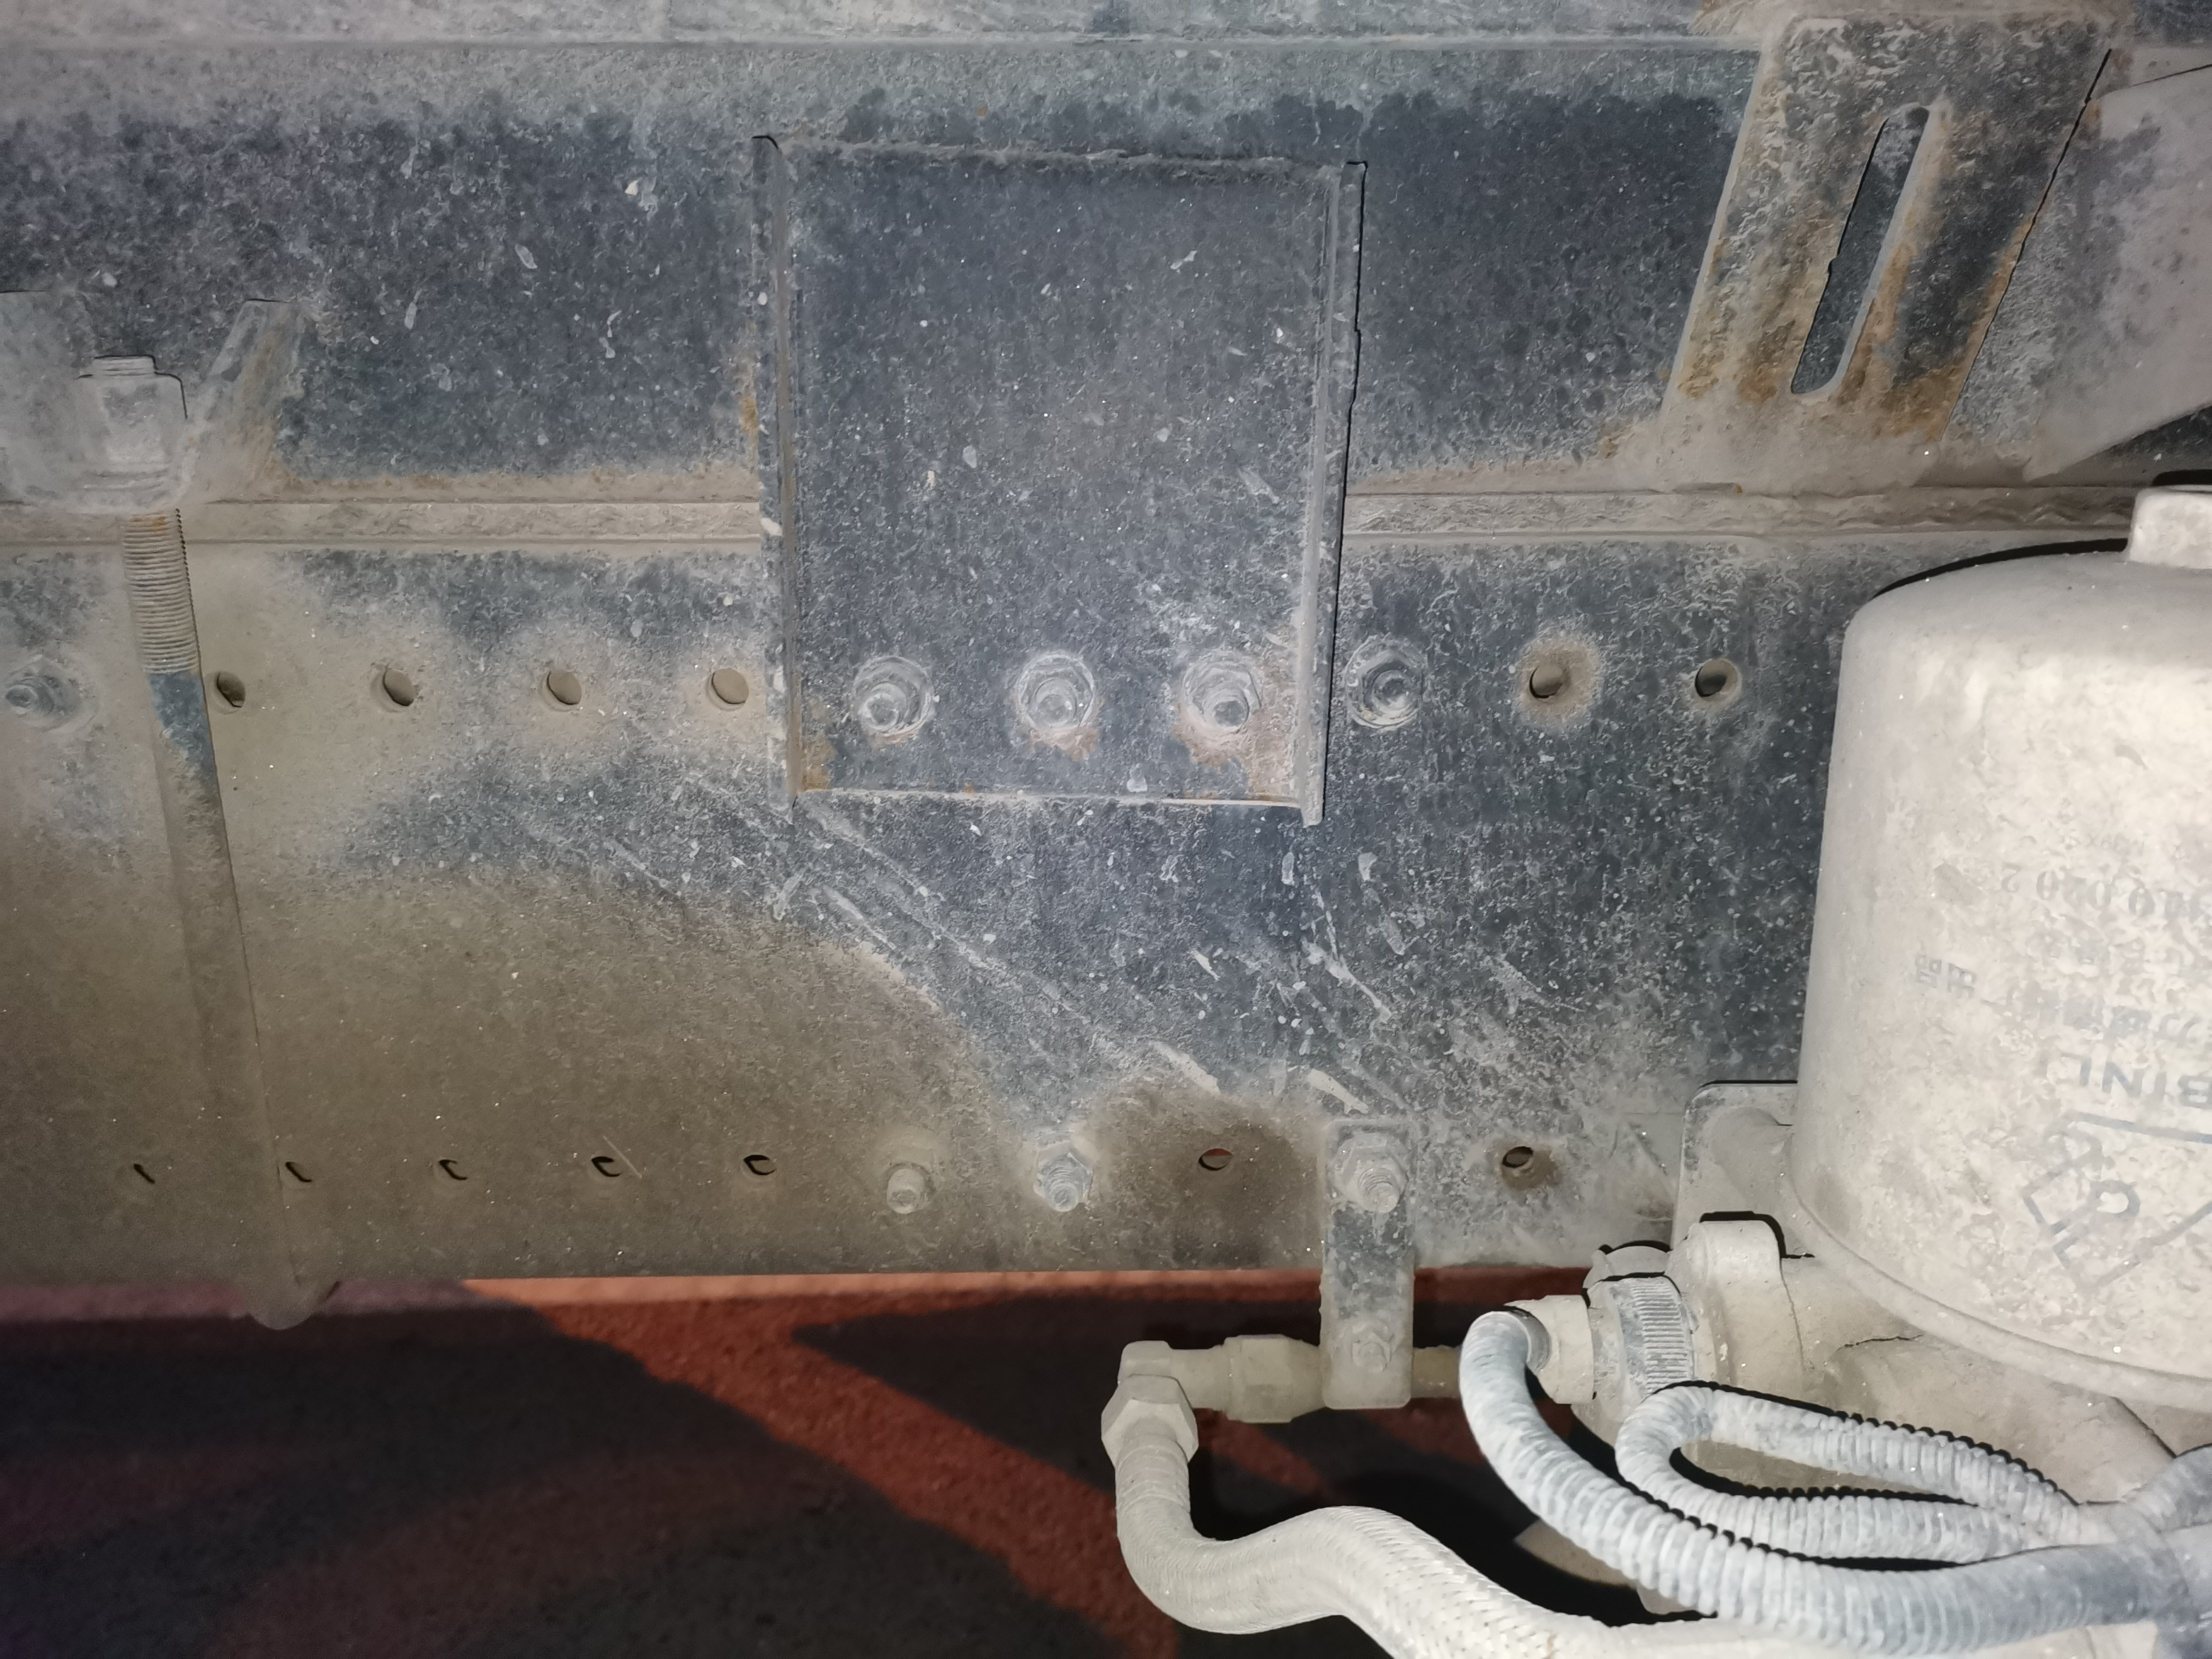bolt_b: (3, 648, 80, 737), (846, 660, 930, 741), (1014, 655, 1097, 735), (1348, 647, 1430, 727), (1188, 660, 1266, 737), (1338, 1138, 1411, 1216), (1026, 1138, 1099, 1215), (869, 1143, 942, 1215), (1345, 1324, 1397, 1382)
bolt_c: (54, 352, 193, 451)
